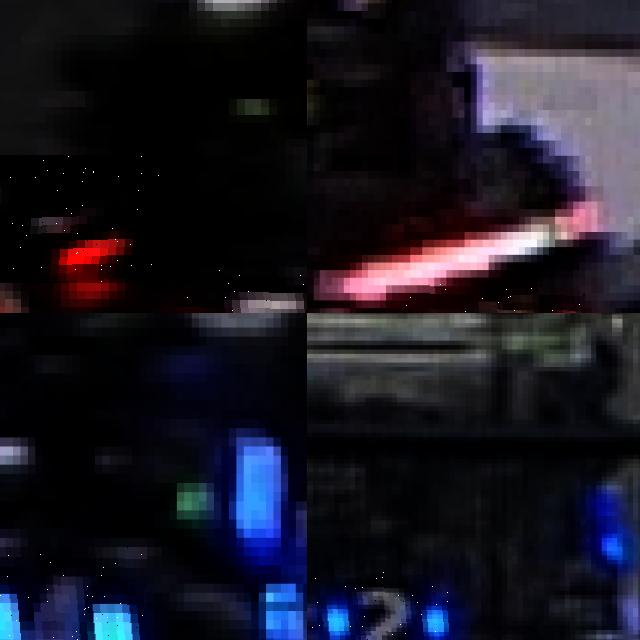B2: (307, 568, 449, 640)
B4: (0, 547, 146, 640)
R3: (395, 281, 582, 313)
R5: (0, 155, 165, 283), (165, 267, 307, 313)
